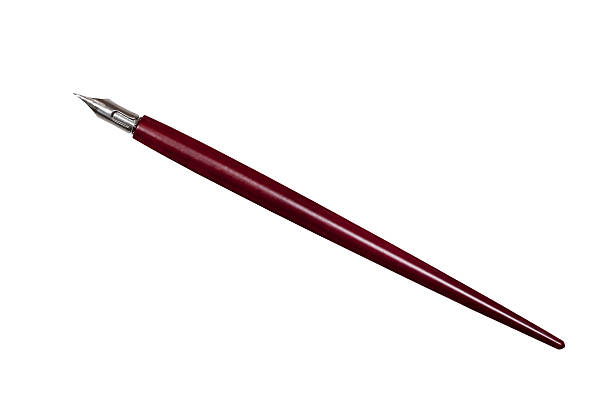pen: (66, 80, 579, 357)
